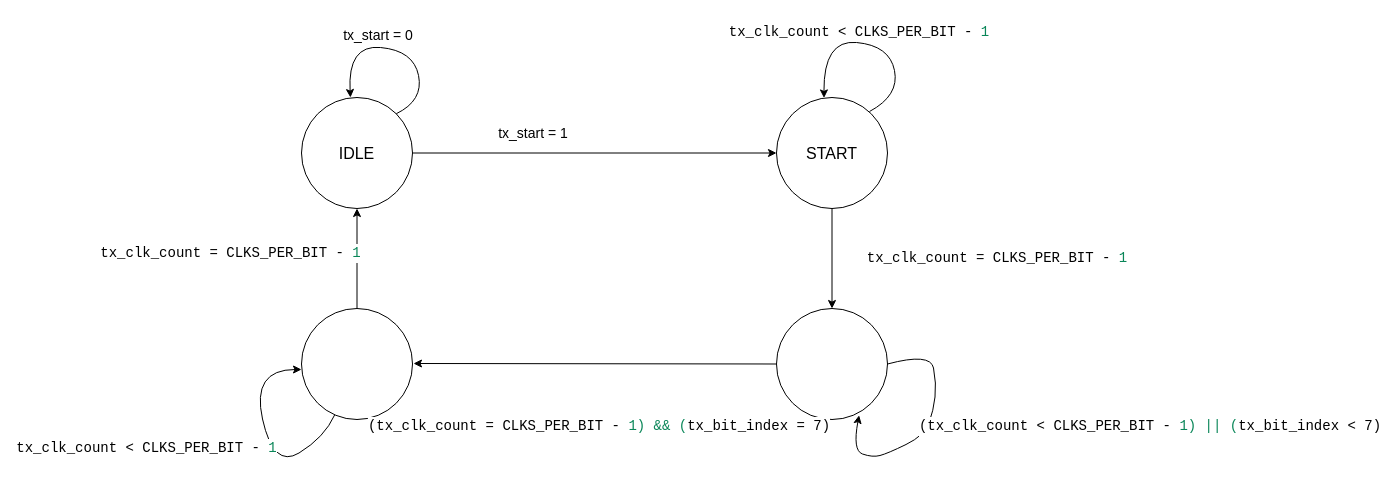
Some shapes in this 1399 by 480 pixel diagram are drawn without their labels. Each missing label, with the centre of its shape:
"DATA" goes at (832,364).
"STOP" goes at (356,364).
